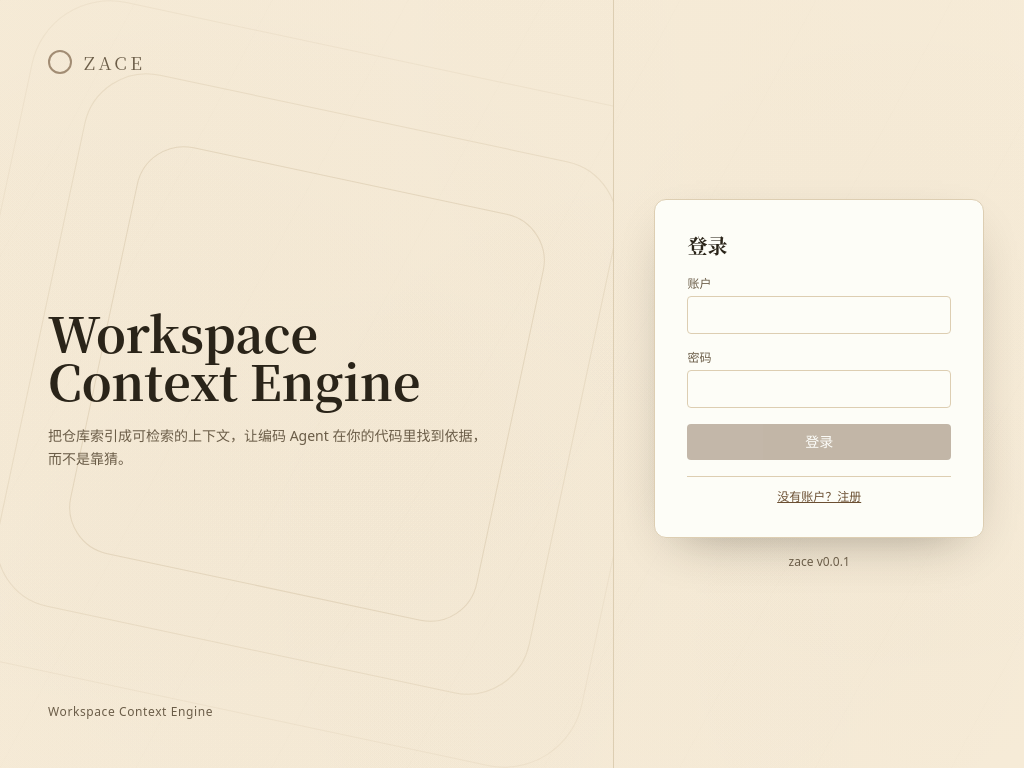
it: 邀请码注册（TASK-110 §1.1） › 没填邀请码时注册按钮保持禁用（不在客户端放行一次必然 400 的请求）
This screenshot has width=1024, height=768.
Expected: the heading "登录" is shown, [687,230,728,260]
Step 1. Click the button "没有账户？注册" → {"x": 819, "y": 496}, box [777,488,861,504]
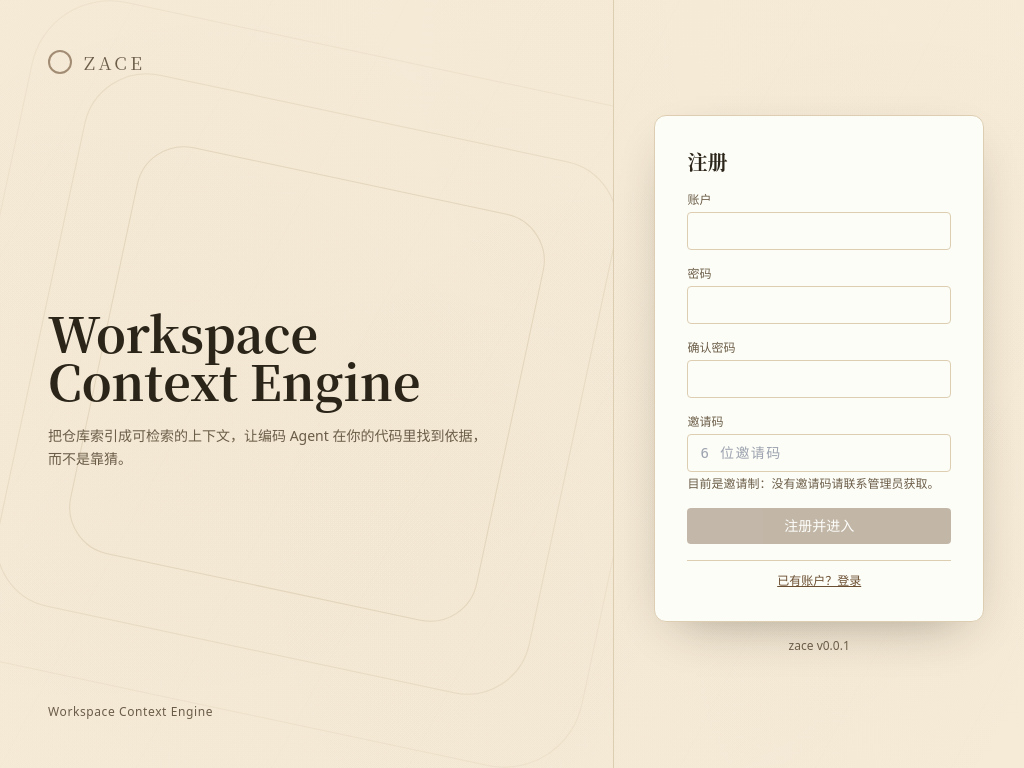
Step 2. Type "newbie" into the field labelled "账户" → {"x": 819, "y": 230}, box [687,212,951,250]
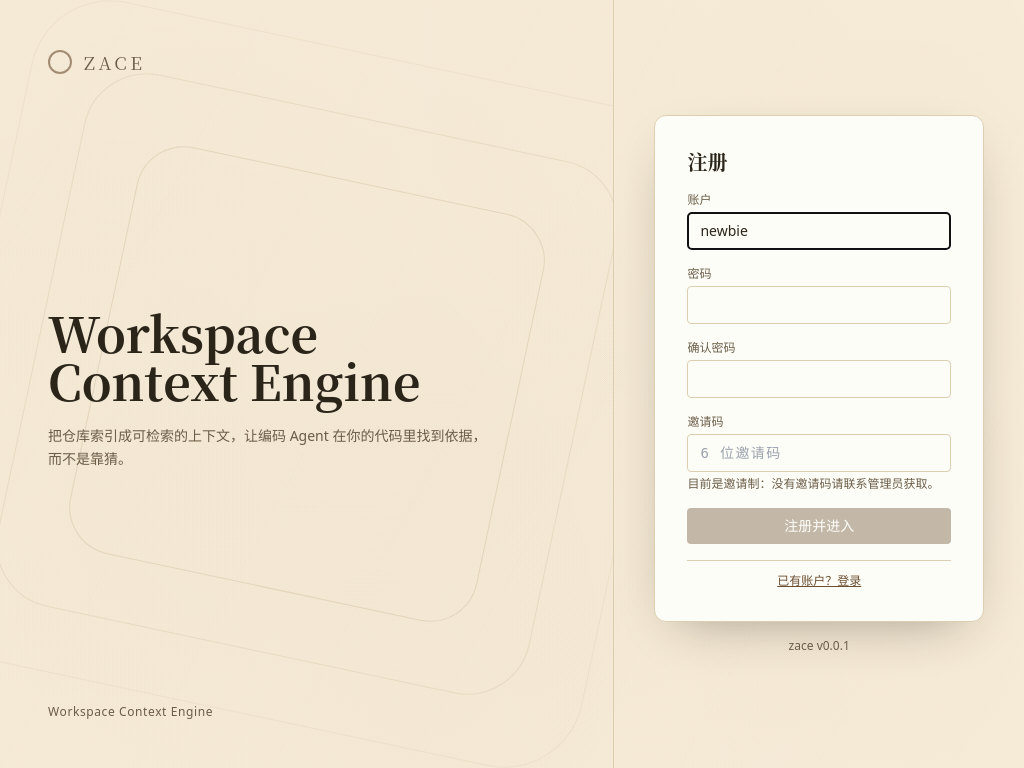
Step 3. Type "pw123" into the password field labelled "密码" → {"x": 819, "y": 304}, box [687,286,951,324]
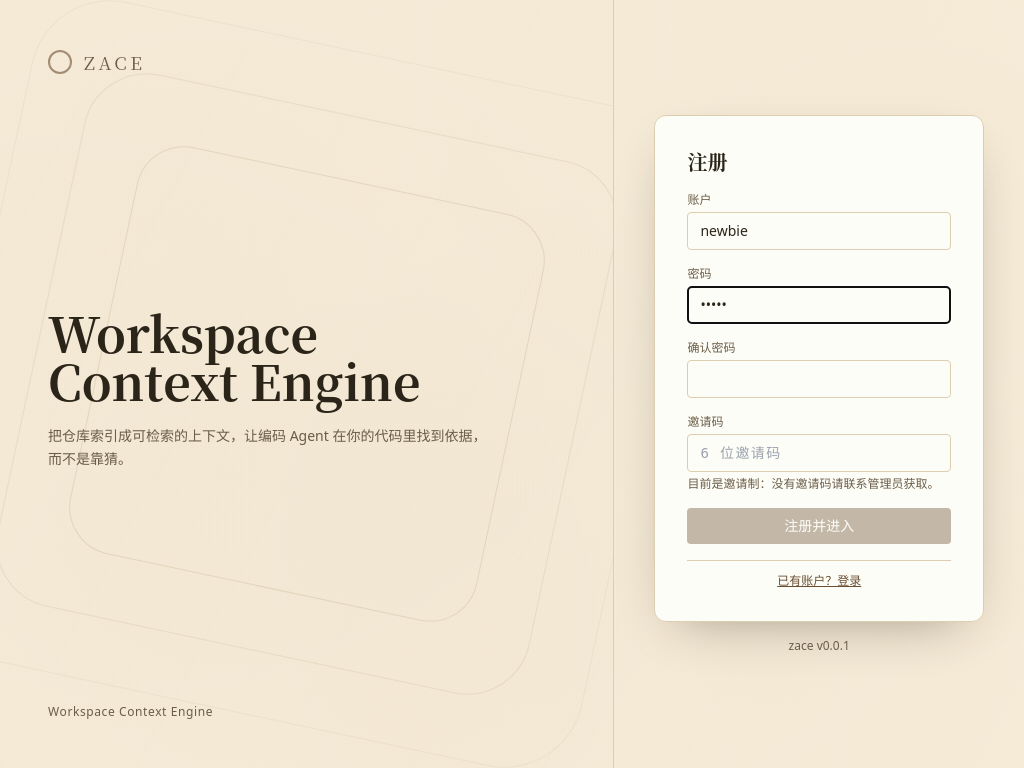
Step 4. Type "pw123" into the password field labelled "确认密码" → {"x": 819, "y": 378}, box [687,360,951,398]
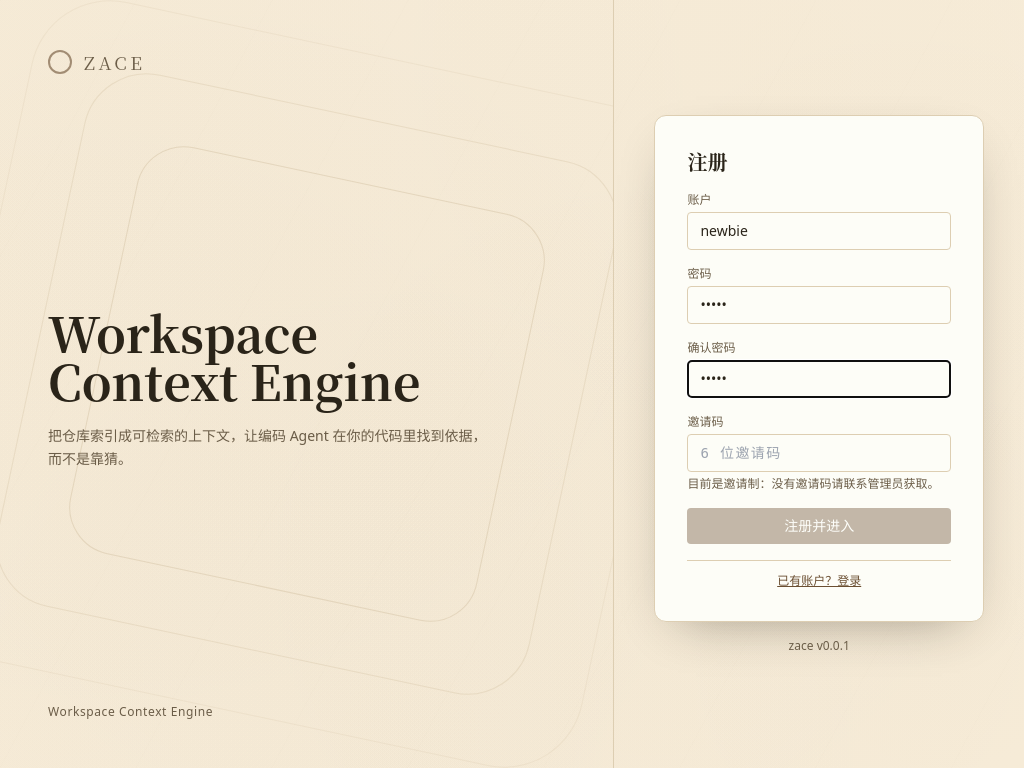
Expected: the button "注册并进入" is disabled, [687,508,951,544]
Step 5. Type "b7k2m9" into the field labelled "邀请码" → {"x": 819, "y": 452}, box [687,434,951,472]
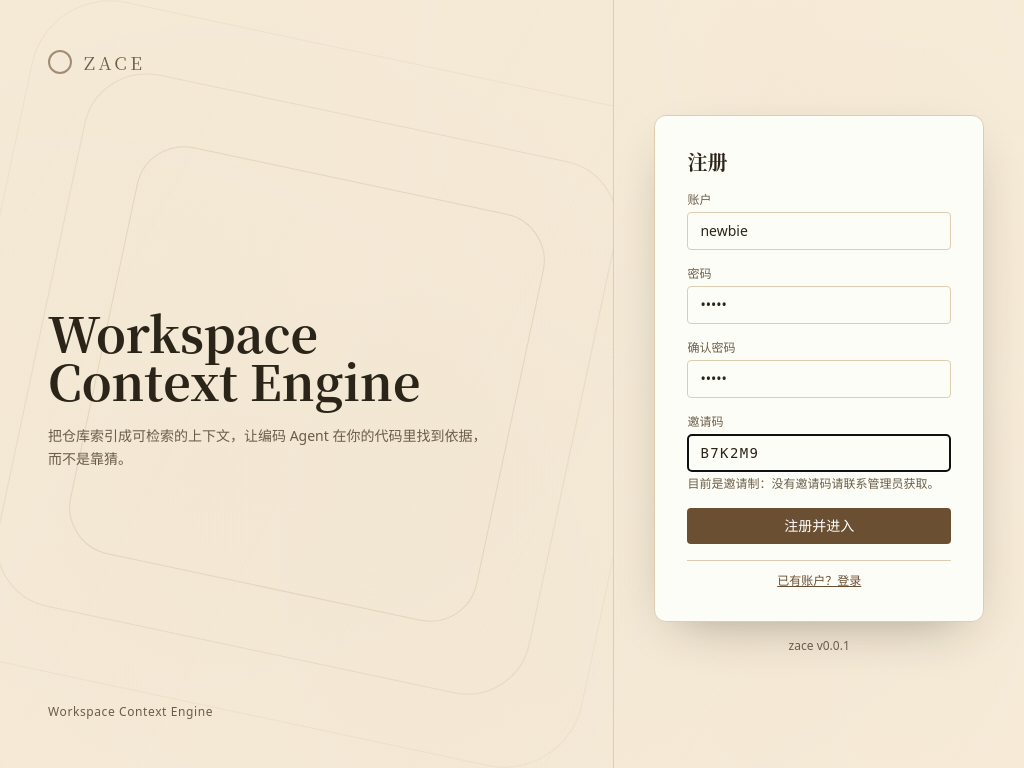
Expected: the button "注册并进入" is enabled, [687,508,951,544]
